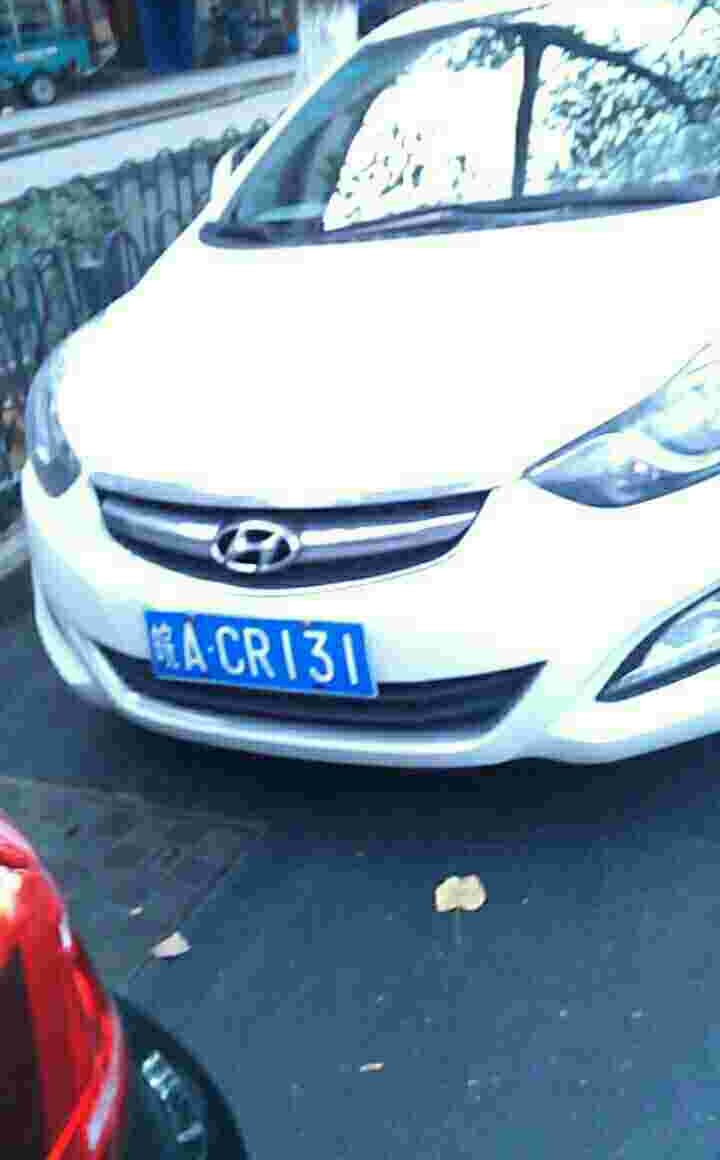plate: (136, 601, 382, 703)
